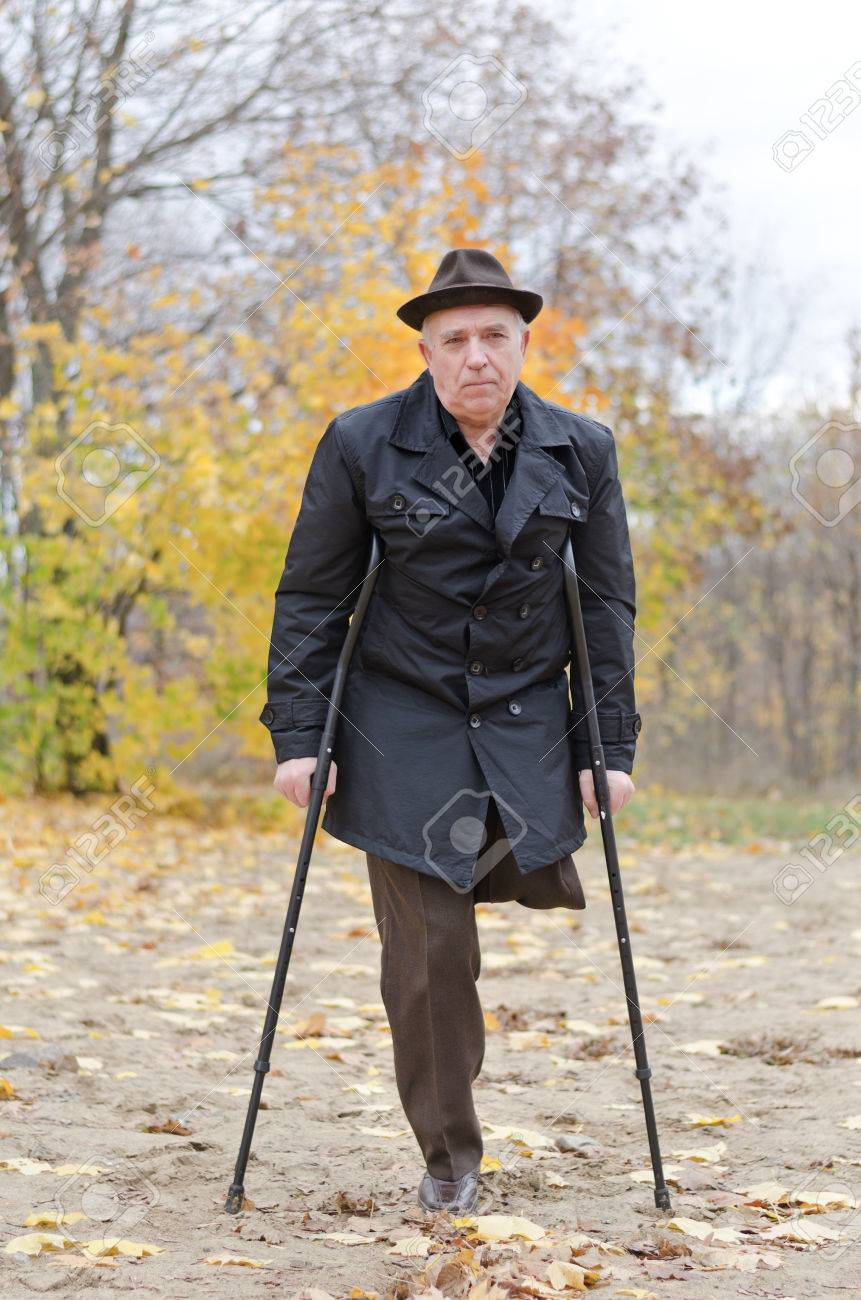crutches: (224, 251, 669, 1211)
